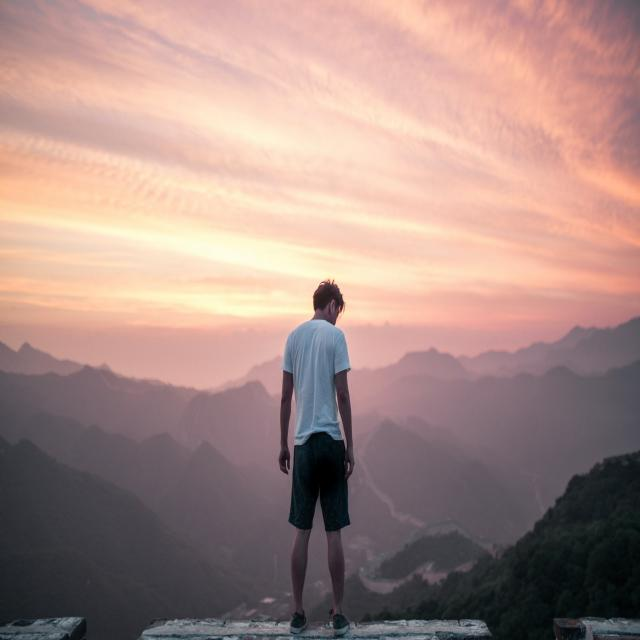adult: (277, 279, 355, 636)
